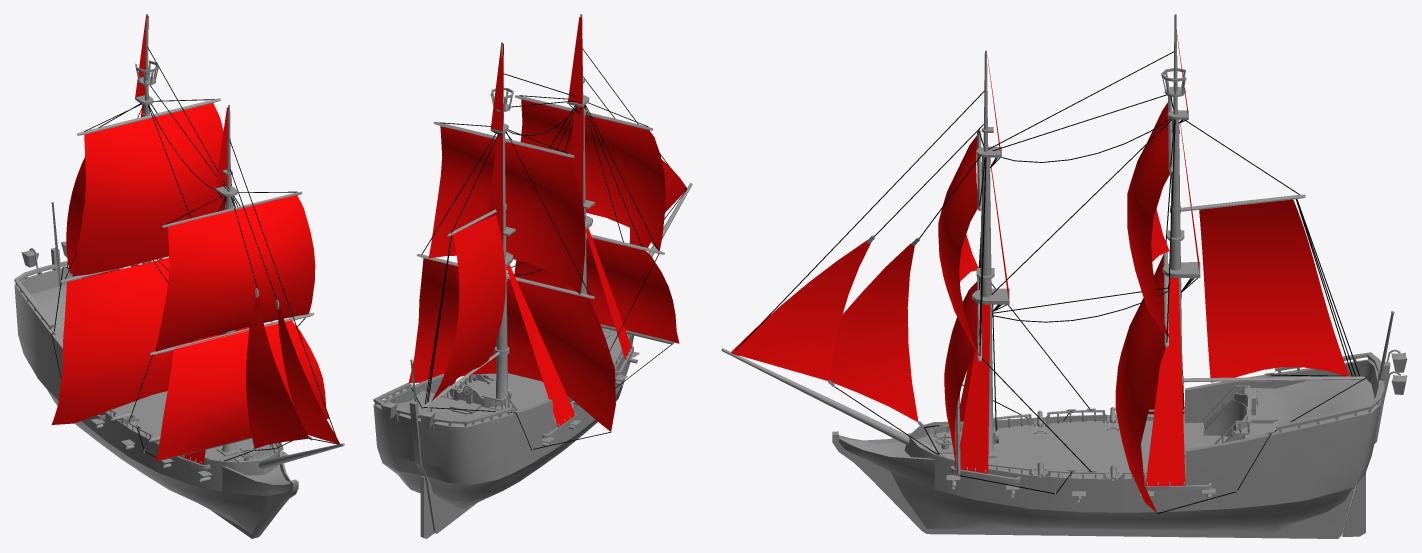
File: Pirate_Ship_Idle_Anim.FBX
3 views of the same model, side by side, from view 1: azimuth 30°, elevation 25°; view 2: azimuth 150°, elevation 25°; view 3: azimuth 270°, elevation 25° (orthographic). The views are drawn at different scales.
Visible parts, largest first — view 1: Segel_Takelagen, Pirate_Ship; view 2: Segel_Takelagen, Pirate_Ship; view 3: Pirate_Ship, Segel_Takelagen.
Boxes of the visible parts, left/top/right/bottom form: Segel_Takelagen: left=52, top=16, right=339, bottom=464; Pirate_Ship: left=14, top=14, right=344, bottom=538; Segel_Takelagen: left=408, top=17, right=687, bottom=431; Pirate_Ship: left=373, top=14, right=692, bottom=538; Pirate_Ship: left=721, top=14, right=1407, bottom=538; Segel_Takelagen: left=731, top=24, right=1348, bottom=512.
Size of the model in its own units: 65.09 by 135 by 161.
